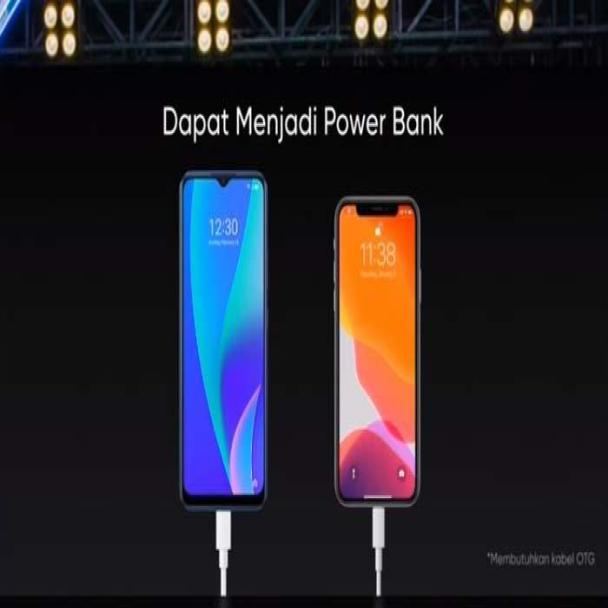Handphone: (180, 171, 267, 508), (334, 193, 421, 509)
